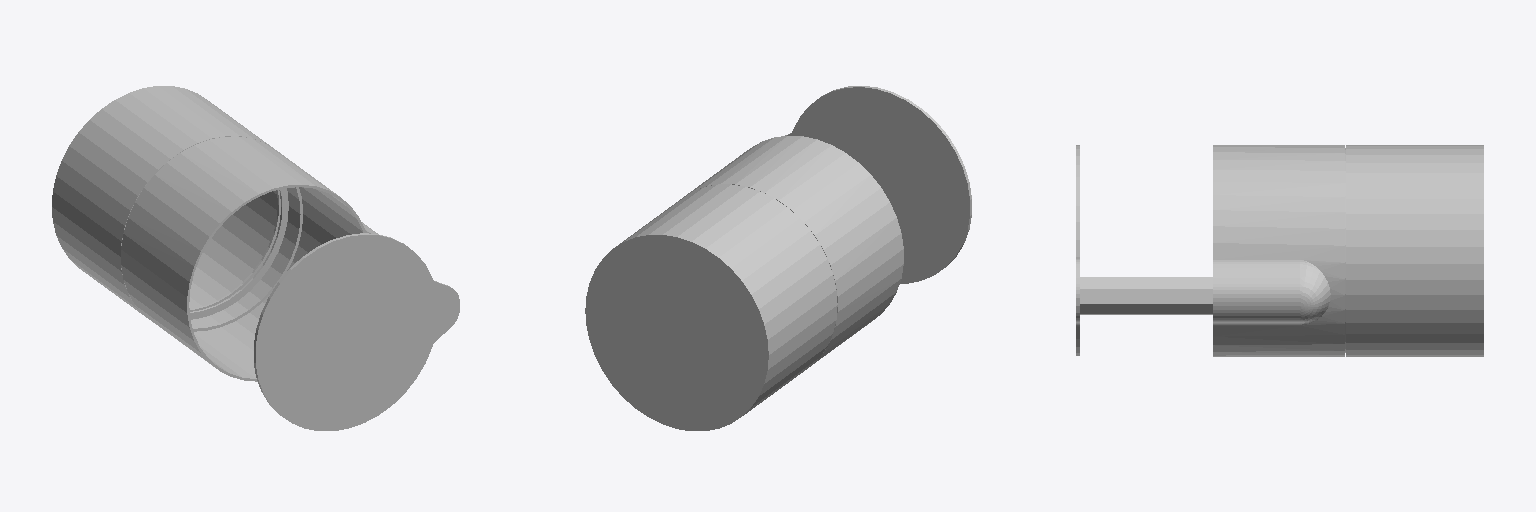
Rendered from Mosquito body reserach v2.obj.
The picture shows the model from 3 angles: view 1: azimuth 30°, elevation 25°; view 2: azimuth 150°, elevation 25°; view 3: azimuth 270°, elevation 25°; orthographic projection.
Visible parts, largest first — view 1: cap, Body11, bottom; view 2: bottom, Body11, cap; view 3: bottom, Body11, cap.
Boxes of the visible parts, box(x1,y1,x2,y2) form: cap: box(254, 233, 459, 430); Body11: box(121, 136, 377, 381); bottom: box(52, 86, 280, 319); bottom: box(585, 184, 837, 430); Body11: box(684, 136, 903, 363); cap: box(785, 86, 971, 283); bottom: box(1346, 145, 1483, 356); Body11: box(1213, 145, 1345, 356); cap: box(1076, 145, 1212, 355).
Bounding box in the file's own units: 8.94 × 8 × 15.37.